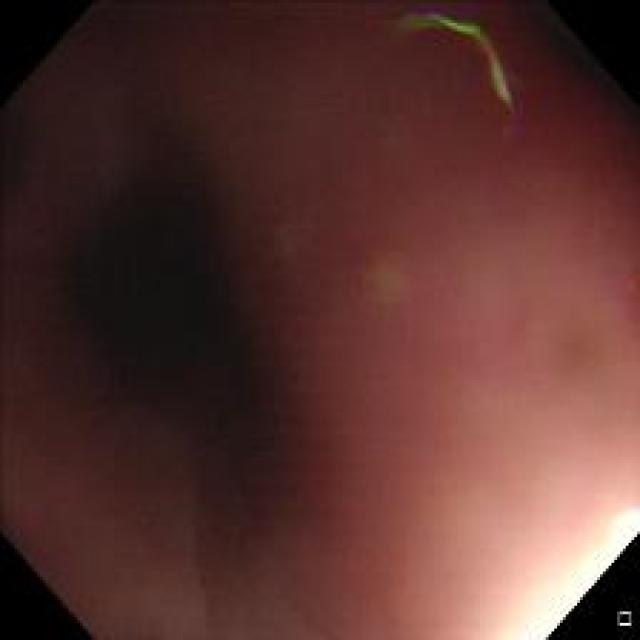color misalignment: (409, 11, 514, 120)
contrast: (66, 130, 322, 508)
saturation: (521, 512, 634, 632)
